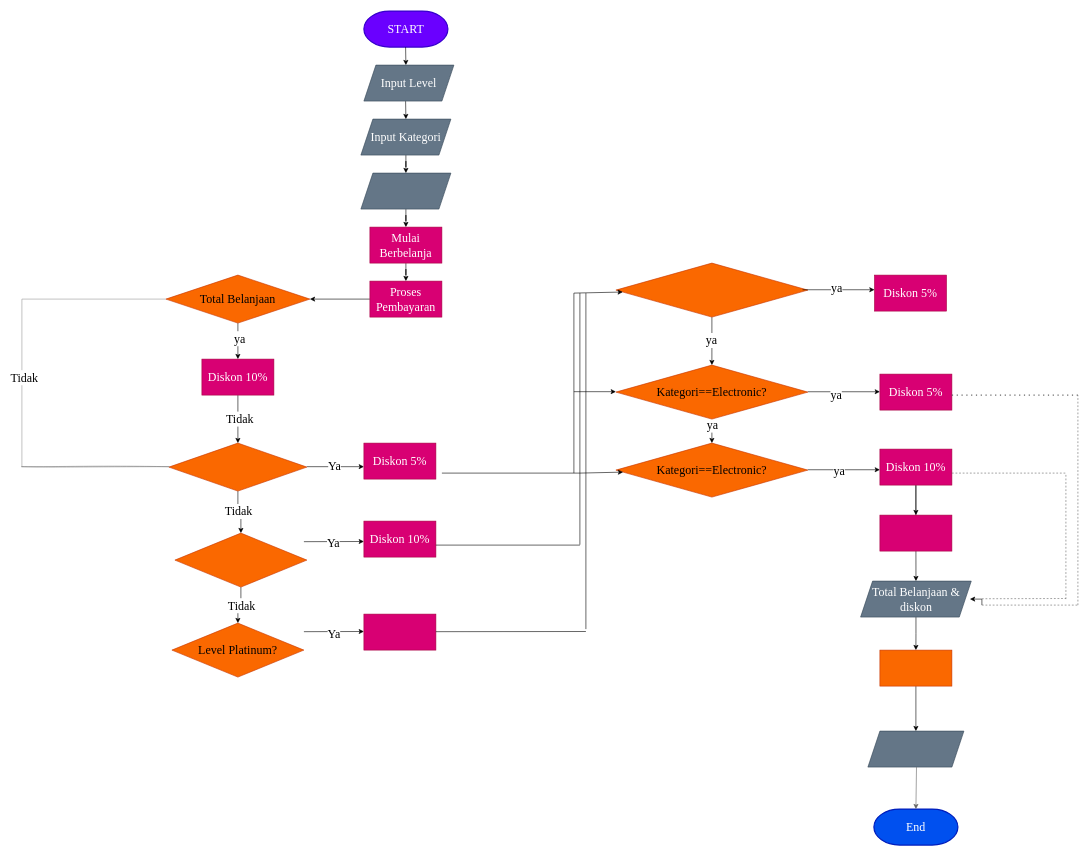
The diagram is 1090 pixels wide and 856 high, and some of its shapes have lost their labels. The centre of each missing label's shape, as x and y in pixels:
"Diskon 15%" goes at point (399, 632).
"Diskon 20%" goes at point (915, 532).
"Input Barang" goes at point (405, 190).
"Kategori==ATK?" goes at point (711, 289).
"Level==Gold?" goes at point (240, 559).
"Level==Silver?" goes at point (237, 466).
"Melakukan Pembayaran" goes at point (915, 748).
"Total Harga" goes at point (915, 668).
